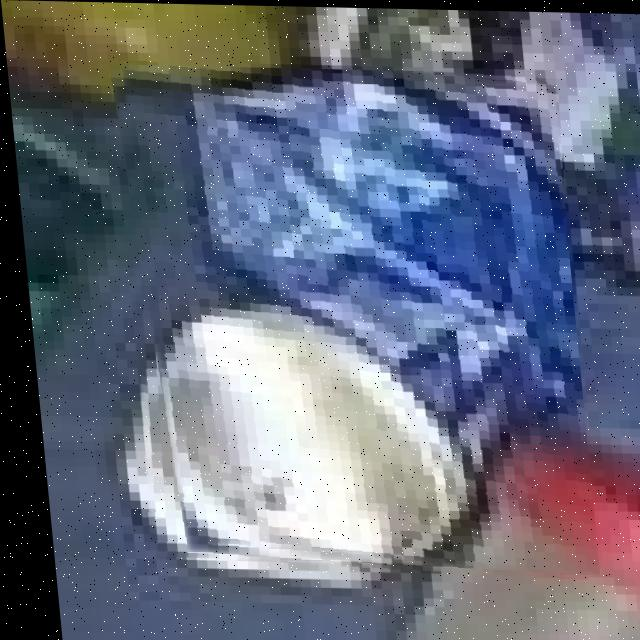can: (106, 64, 588, 575)
